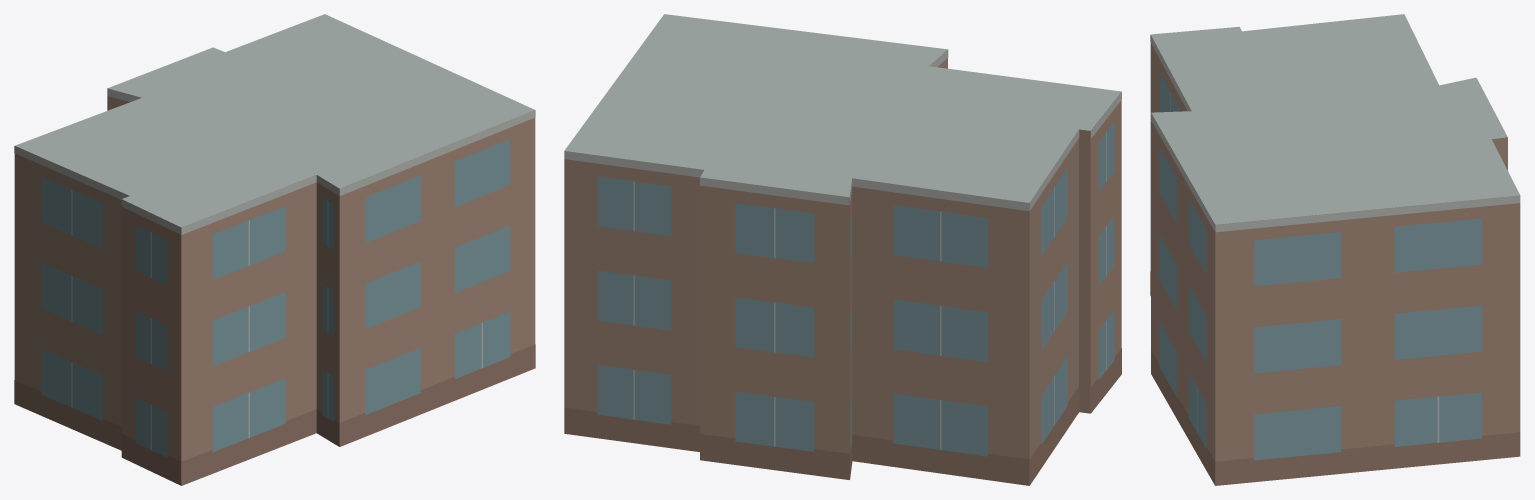
Rendered from survey-upis-32956100.glb.
3 renders of one model, left to right at view 1: azimuth 30°, elevation 25°; view 2: azimuth 150°, elevation 25°; view 3: azimuth 270°, elevation 25°, orthographic. The views are drawn at different scales.
Parts seen in each view (by area): view 1: survey-upis-32956100.tmp; view 2: survey-upis-32956100.tmp; view 3: survey-upis-32956100.tmp.
Boxes of the visible parts, <box> form: survey-upis-32956100.tmp: <box>14,14,535,485</box>; survey-upis-32956100.tmp: <box>564,14,1121,485</box>; survey-upis-32956100.tmp: <box>1150,14,1520,485</box>.
Size of the model in its own units: 14.55 by 8.4 by 10.79.
